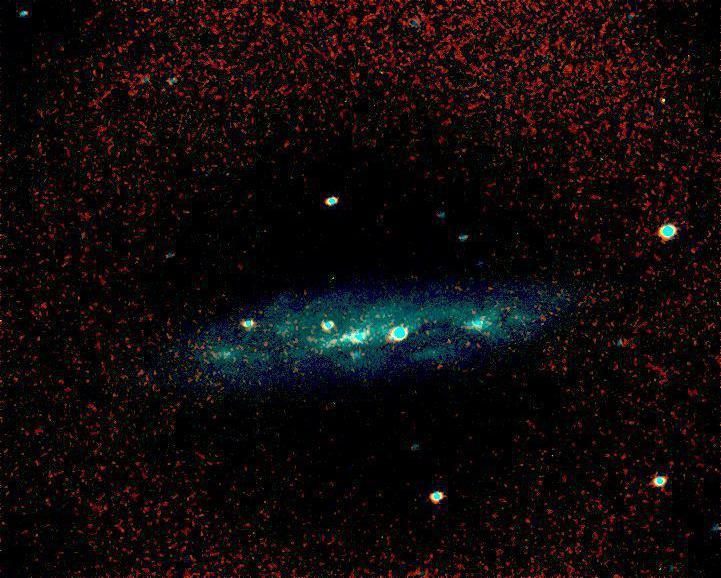star: (340, 327, 370, 357)
